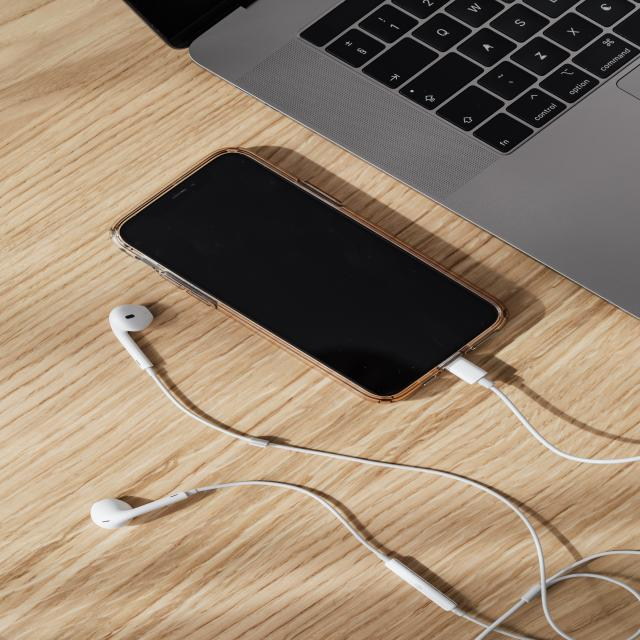headphones: (83, 304, 186, 539)
phone: (84, 166, 569, 383)
